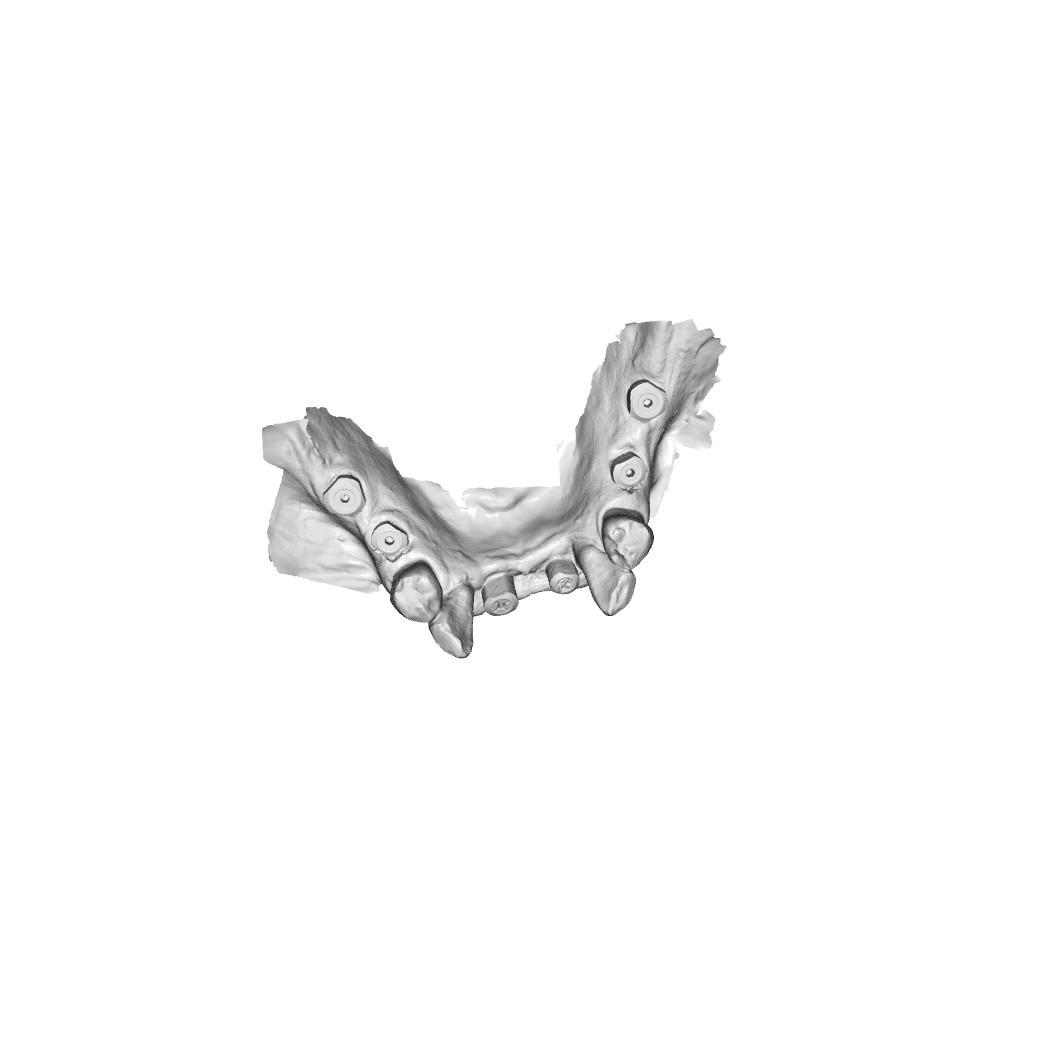canine: (580, 546, 635, 614), (432, 590, 481, 657)
implant: (320, 472, 371, 520), (605, 447, 655, 492), (624, 378, 667, 425), (368, 521, 411, 560), (547, 555, 581, 596)
implant_plus: (484, 574, 519, 616)
premolar: (599, 507, 656, 569), (390, 561, 446, 621)
